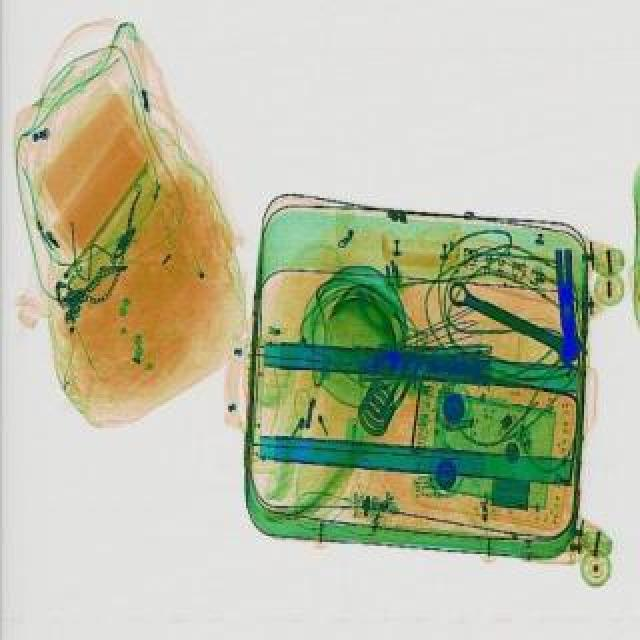scissors: (440, 272, 590, 370)
